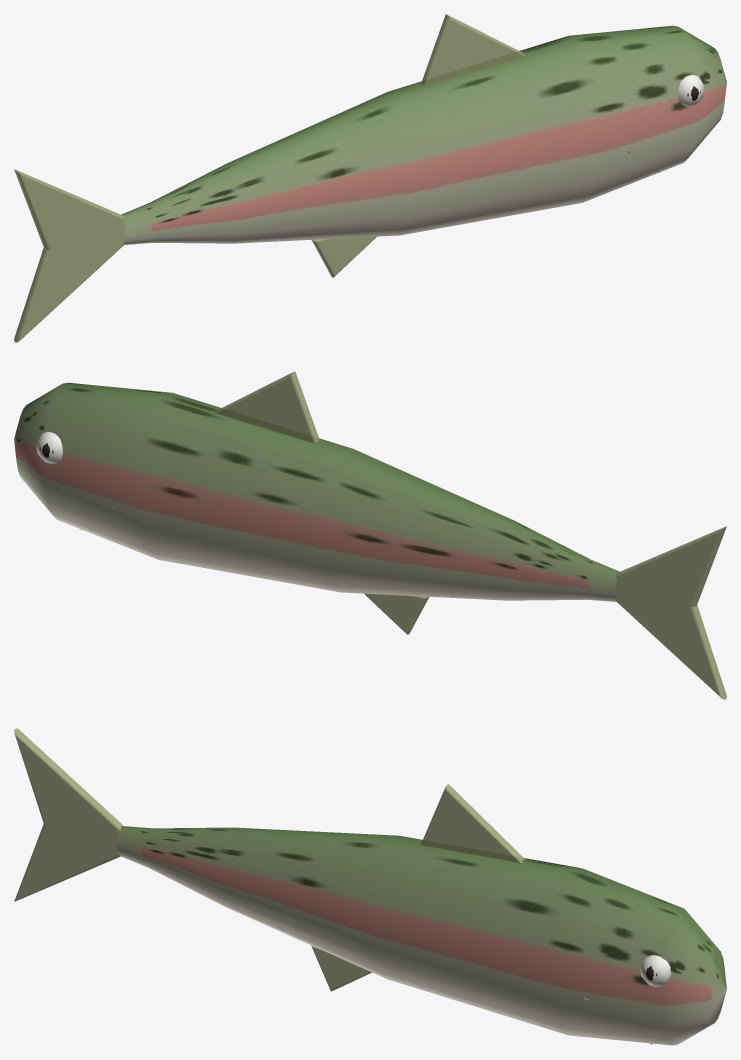
Rendered from trout.glb.
3 views of the same model, one above another, from view 1: azimuth 30°, elevation 25°; view 2: azimuth 150°, elevation 25°; view 3: azimuth 330°, elevation 25° (orthographic).
Visible parts, largest first — view 1: fish; view 2: fish; view 3: fish.
Part boxes in pixels (x1,y1,x2,y2): fish: (14,14,726,342); fish: (14,371,726,699); fish: (14,728,726,1045).
Size of the model in its own units: 0.3759 by 0.1183 by 0.0433.
Materials: 4 (1 with a texture image).
